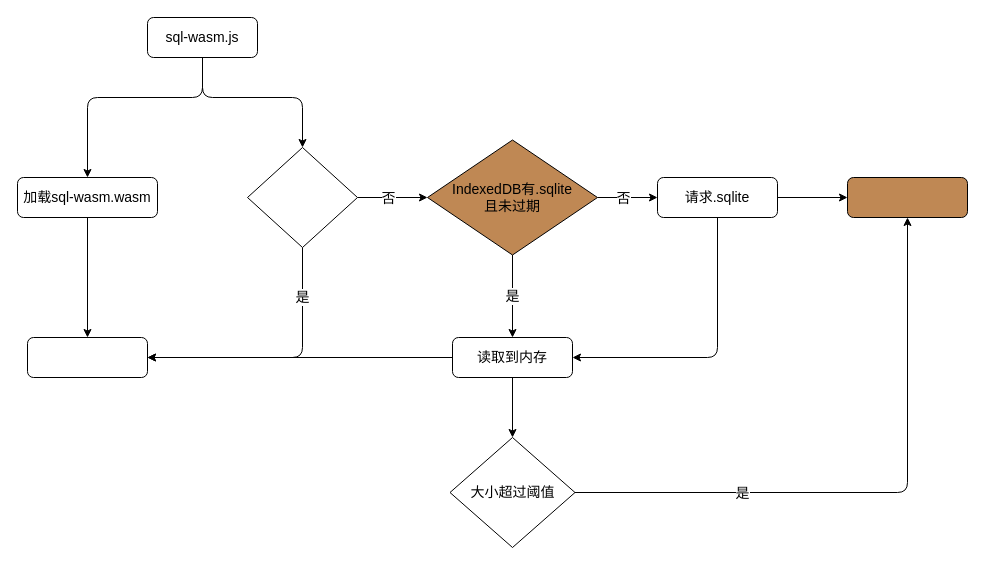
Some shapes in this 985 by 565 pixel diagram are drawn without their labels. The box of each missing label's shape, as (x1, y1, x2, y2) in pixels:
内存有.sqlite: (246, 146, 358, 248)
存到IndexedDB: (846, 176, 968, 218)
执行SQL: (26, 336, 148, 378)
